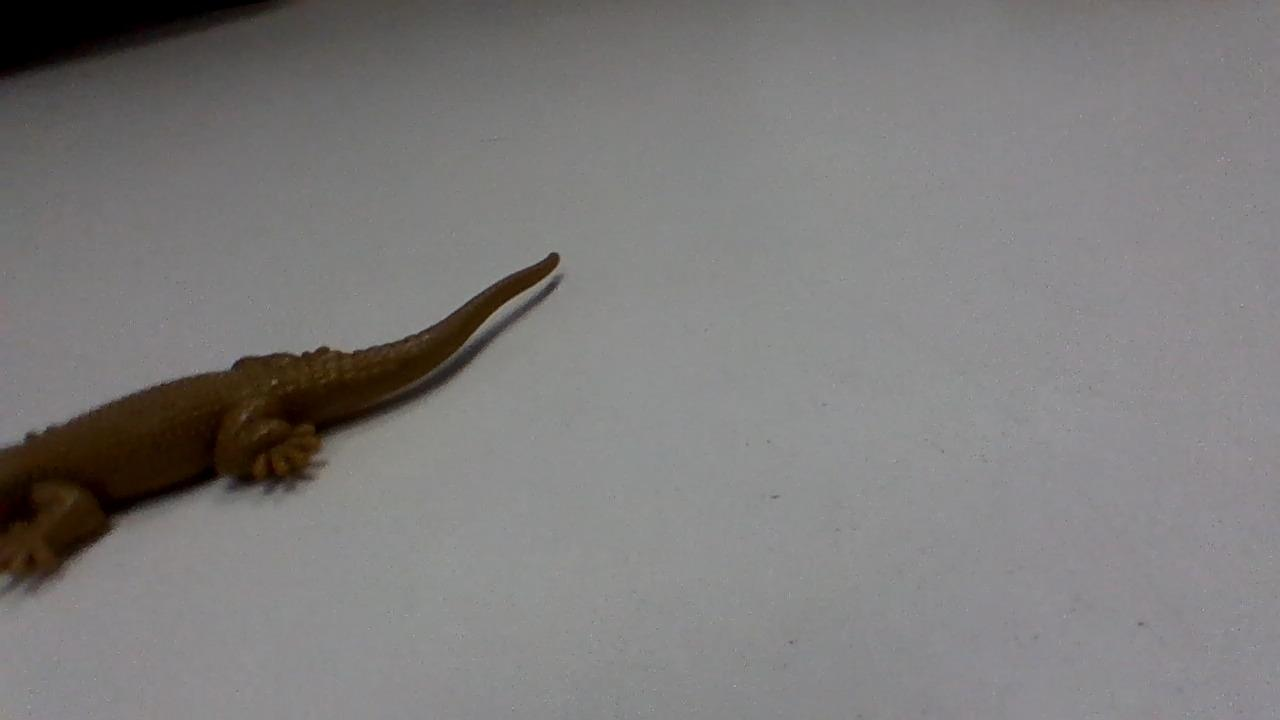lizard: (4, 248, 563, 589)
